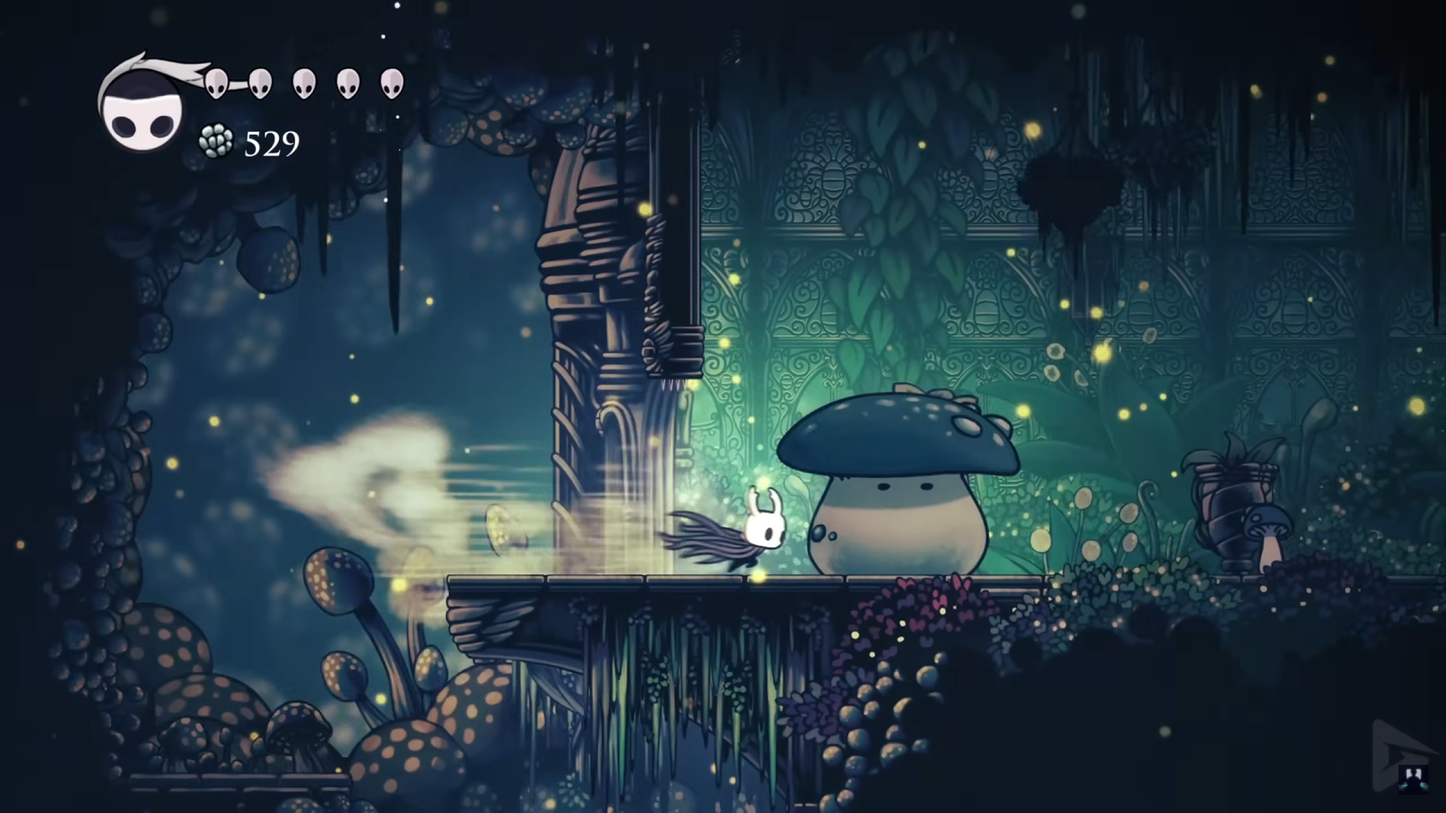HK: (730, 485, 792, 577)
